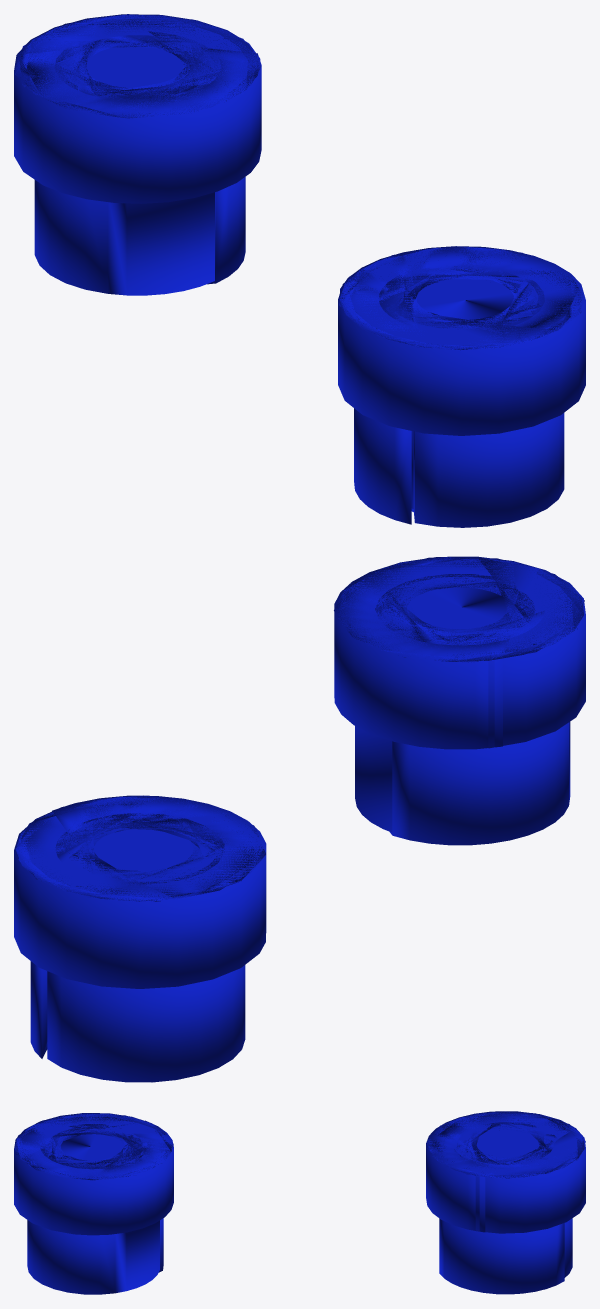
The model's file is tuyeau_element_000016.obj.
3 renders of one model, top to bottom at view 1: azimuth 30°, elevation 25°; view 2: azimuth 150°, elevation 25°; view 3: azimuth 270°, elevation 25°, orthographic. The views are drawn at different scales.
Visible parts, largest first — view 1: tuyeau1_Cube.014, tuyeau2_Cube.017; view 2: tuyeau2_Cube.017, tuyeau1_Cube.014; view 3: tuyeau1_Cube.014, tuyeau2_Cube.017.
Boxes of the visible parts, bbox=[...] form: tuyeau1_Cube.014: bbox=[14, 14, 261, 295]; tuyeau2_Cube.017: bbox=[338, 246, 585, 527]; tuyeau2_Cube.017: bbox=[334, 556, 585, 845]; tuyeau1_Cube.014: bbox=[14, 795, 266, 1082]; tuyeau1_Cube.014: bbox=[426, 1111, 585, 1294]; tuyeau2_Cube.017: bbox=[14, 1113, 173, 1294].
Bounding box in the file's own units: 3604 × 2917 × 12588.
